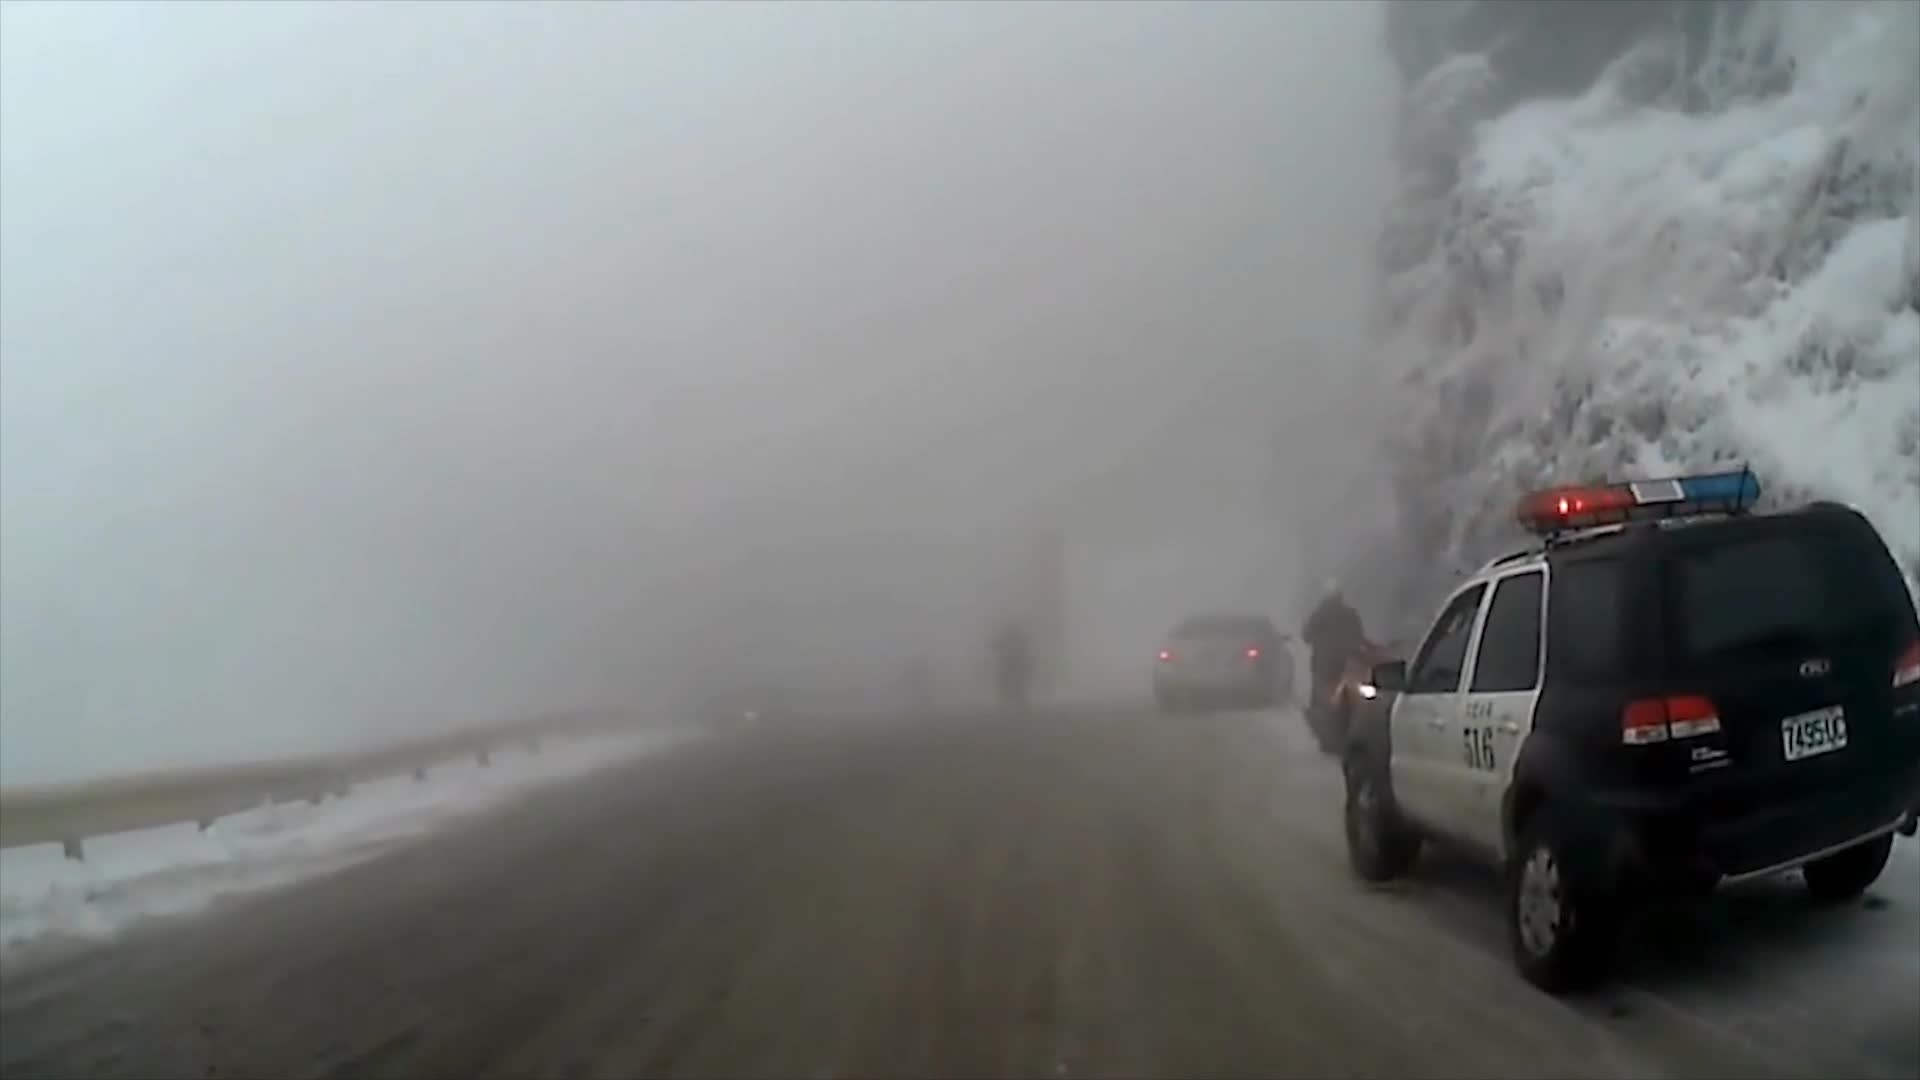pedestrian: (1301, 576, 1378, 742)
vehicle: (1341, 463, 1920, 995), (1155, 607, 1299, 711)
